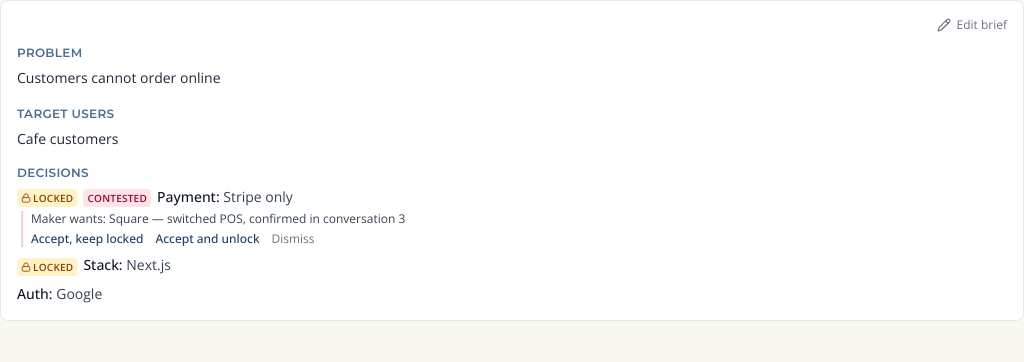
Test: BriefEditor — contested locks (#197 Part A) › announces a resolve error as an alert
The width and height of the screenshot is (1024, 362).
Click the button "Dismiss": point(293, 239) [272,231,314,247]
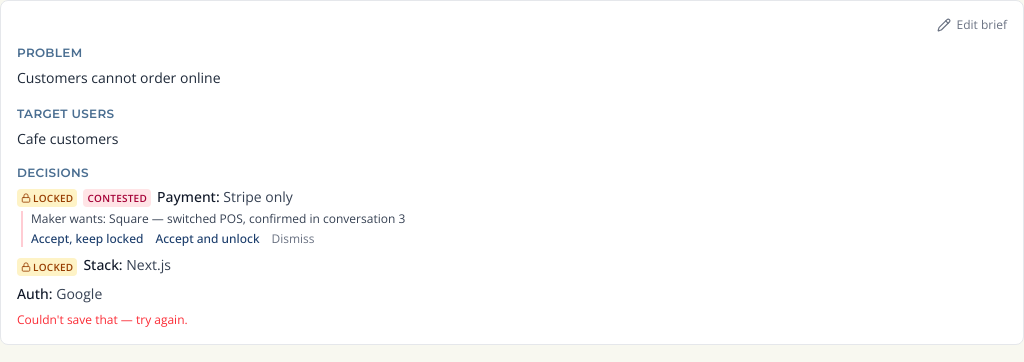
Result: the message shows "Couldn't save that" at [17,311,188,328]
